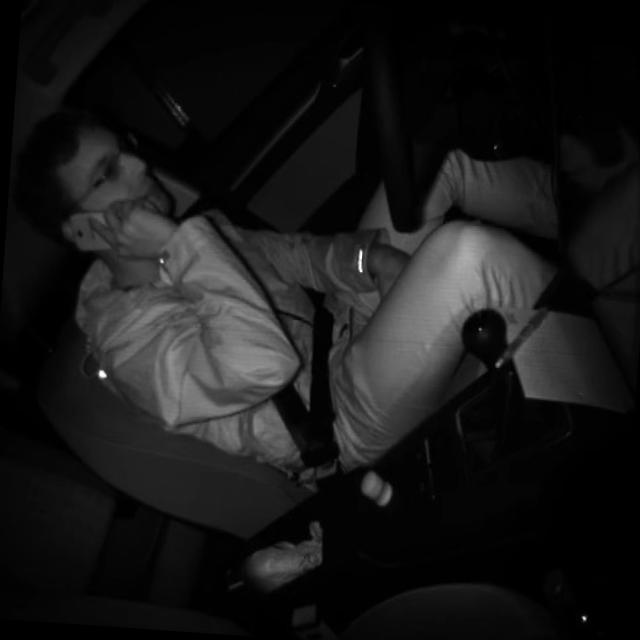pen: (493, 296, 552, 373)
